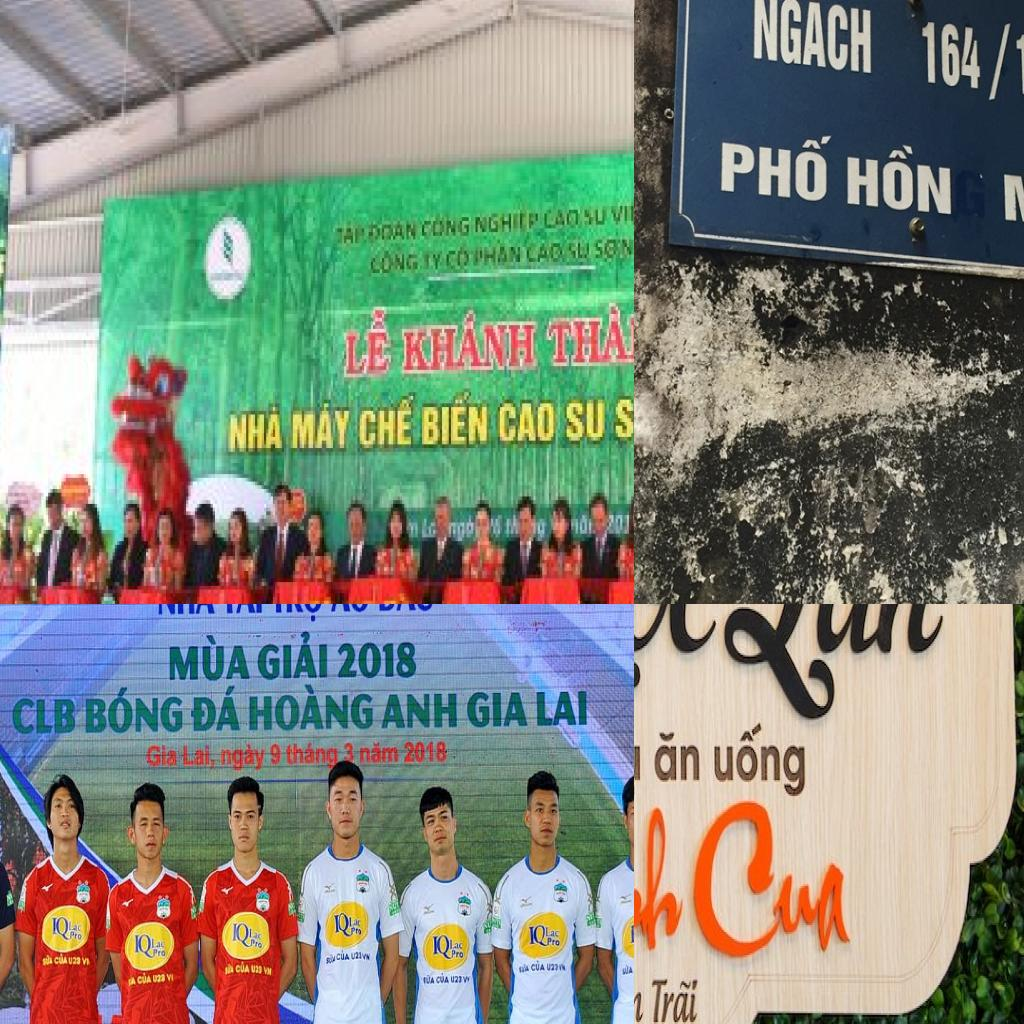text: (706, 604, 965, 739), (692, 794, 853, 974), (402, 307, 540, 377), (720, 122, 834, 206), (752, 0, 872, 76), (634, 805, 686, 969), (844, 138, 952, 216), (708, 720, 808, 802), (248, 683, 374, 733), (546, 303, 634, 370), (86, 686, 184, 736), (921, 18, 982, 92), (422, 388, 491, 452), (169, 634, 252, 682), (342, 307, 393, 381), (256, 632, 328, 683), (358, 392, 418, 452), (224, 404, 288, 460), (291, 400, 353, 456), (337, 642, 418, 680), (650, 727, 701, 786), (379, 692, 458, 730), (498, 400, 558, 448), (190, 685, 242, 734), (465, 691, 529, 729), (13, 698, 77, 735), (564, 396, 607, 444), (988, 22, 1013, 103), (535, 689, 588, 727), (476, 210, 542, 240), (955, 168, 987, 220), (286, 742, 340, 772), (420, 214, 473, 244), (221, 742, 267, 774), (476, 240, 524, 270), (368, 221, 418, 247), (371, 250, 420, 276), (1002, 172, 1024, 227), (613, 392, 634, 444), (403, 740, 448, 764), (593, 236, 634, 262), (270, 604, 324, 623), (183, 744, 218, 772), (360, 741, 400, 765), (336, 221, 366, 251), (526, 243, 564, 266), (147, 741, 178, 769), (544, 210, 582, 232), (1012, 31, 1024, 99), (608, 198, 634, 228), (447, 243, 473, 273), (430, 934, 452, 963), (158, 604, 215, 615), (569, 240, 593, 266), (231, 922, 251, 952), (582, 206, 609, 228), (134, 933, 154, 961), (333, 912, 353, 940), (527, 924, 547, 949), (52, 916, 70, 943), (422, 251, 444, 273), (221, 604, 263, 615), (328, 604, 370, 614), (342, 741, 356, 765), (270, 741, 282, 768), (350, 950, 371, 964), (546, 960, 567, 973), (616, 515, 627, 538), (235, 960, 251, 975), (544, 924, 560, 938), (136, 973, 153, 986), (102, 1015, 126, 1024), (54, 952, 69, 966), (68, 920, 83, 934), (436, 972, 451, 986), (531, 959, 546, 973), (451, 974, 470, 985), (250, 938, 264, 952), (422, 973, 436, 987), (620, 962, 634, 976), (42, 952, 54, 968), (249, 929, 263, 942), (337, 948, 350, 962), (151, 938, 166, 950), (449, 940, 464, 952), (547, 936, 562, 948), (69, 954, 81, 968), (348, 916, 362, 928), (325, 952, 337, 966), (70, 930, 83, 942), (518, 961, 530, 974), (451, 950, 465, 961), (629, 920, 634, 949), (251, 964, 263, 976), (224, 963, 235, 976), (153, 948, 167, 958), (264, 966, 274, 980), (153, 973, 166, 983), (82, 956, 92, 968), (390, 902, 400, 914), (351, 928, 363, 937), (483, 921, 493, 931), (166, 974, 172, 984), (131, 977, 136, 987)
